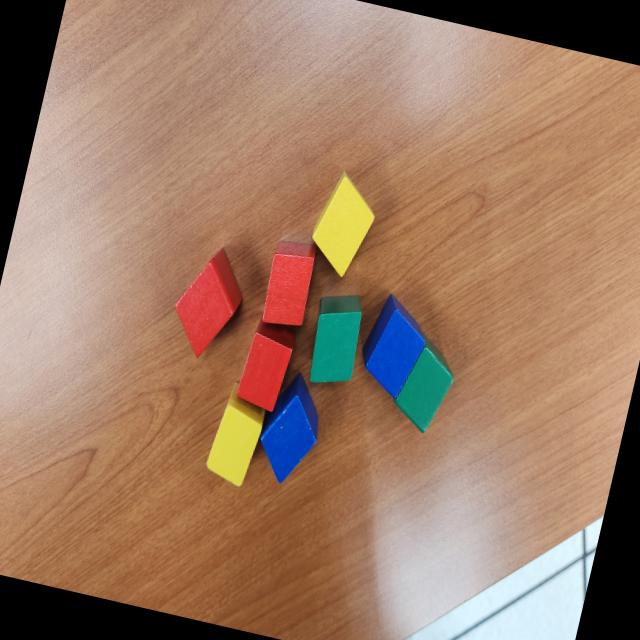blue: (249, 366, 331, 489), (354, 291, 434, 402)
green: (388, 335, 461, 437), (301, 286, 369, 392)
red: (165, 242, 252, 365), (234, 314, 298, 415), (254, 235, 320, 332)
yellow: (305, 170, 382, 280), (201, 378, 271, 488)
